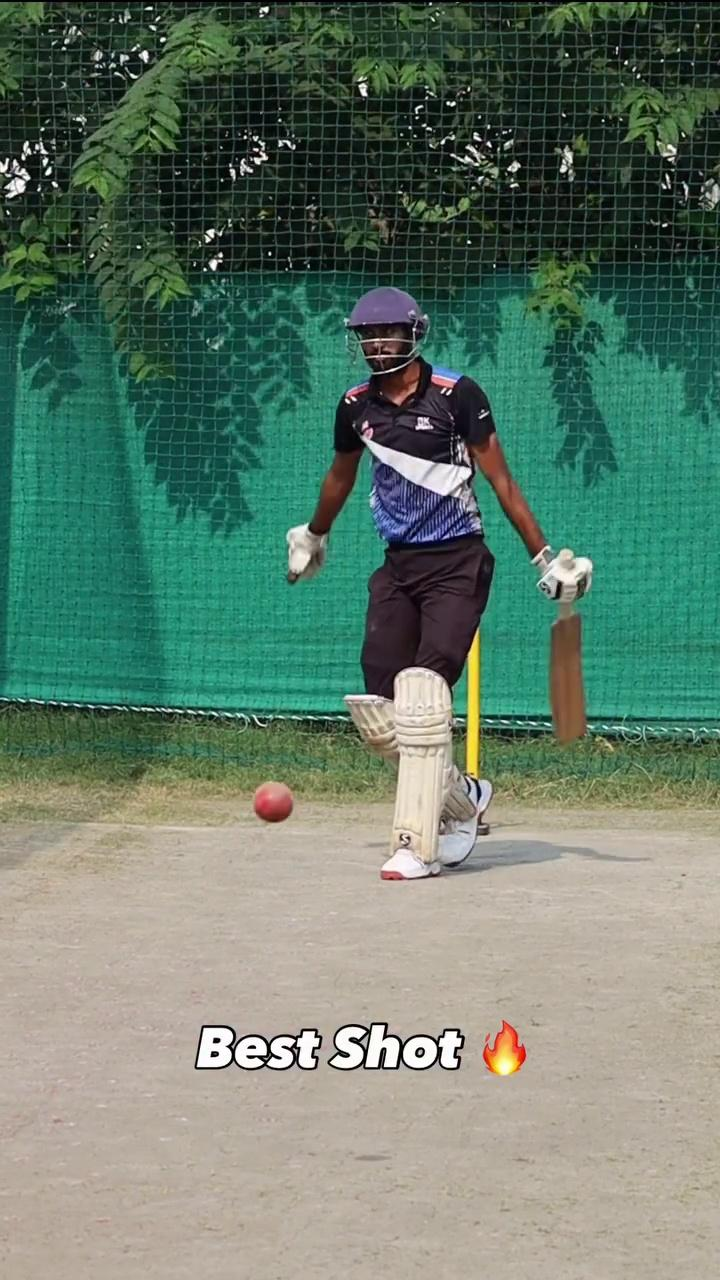bat: (545, 612, 589, 749)
